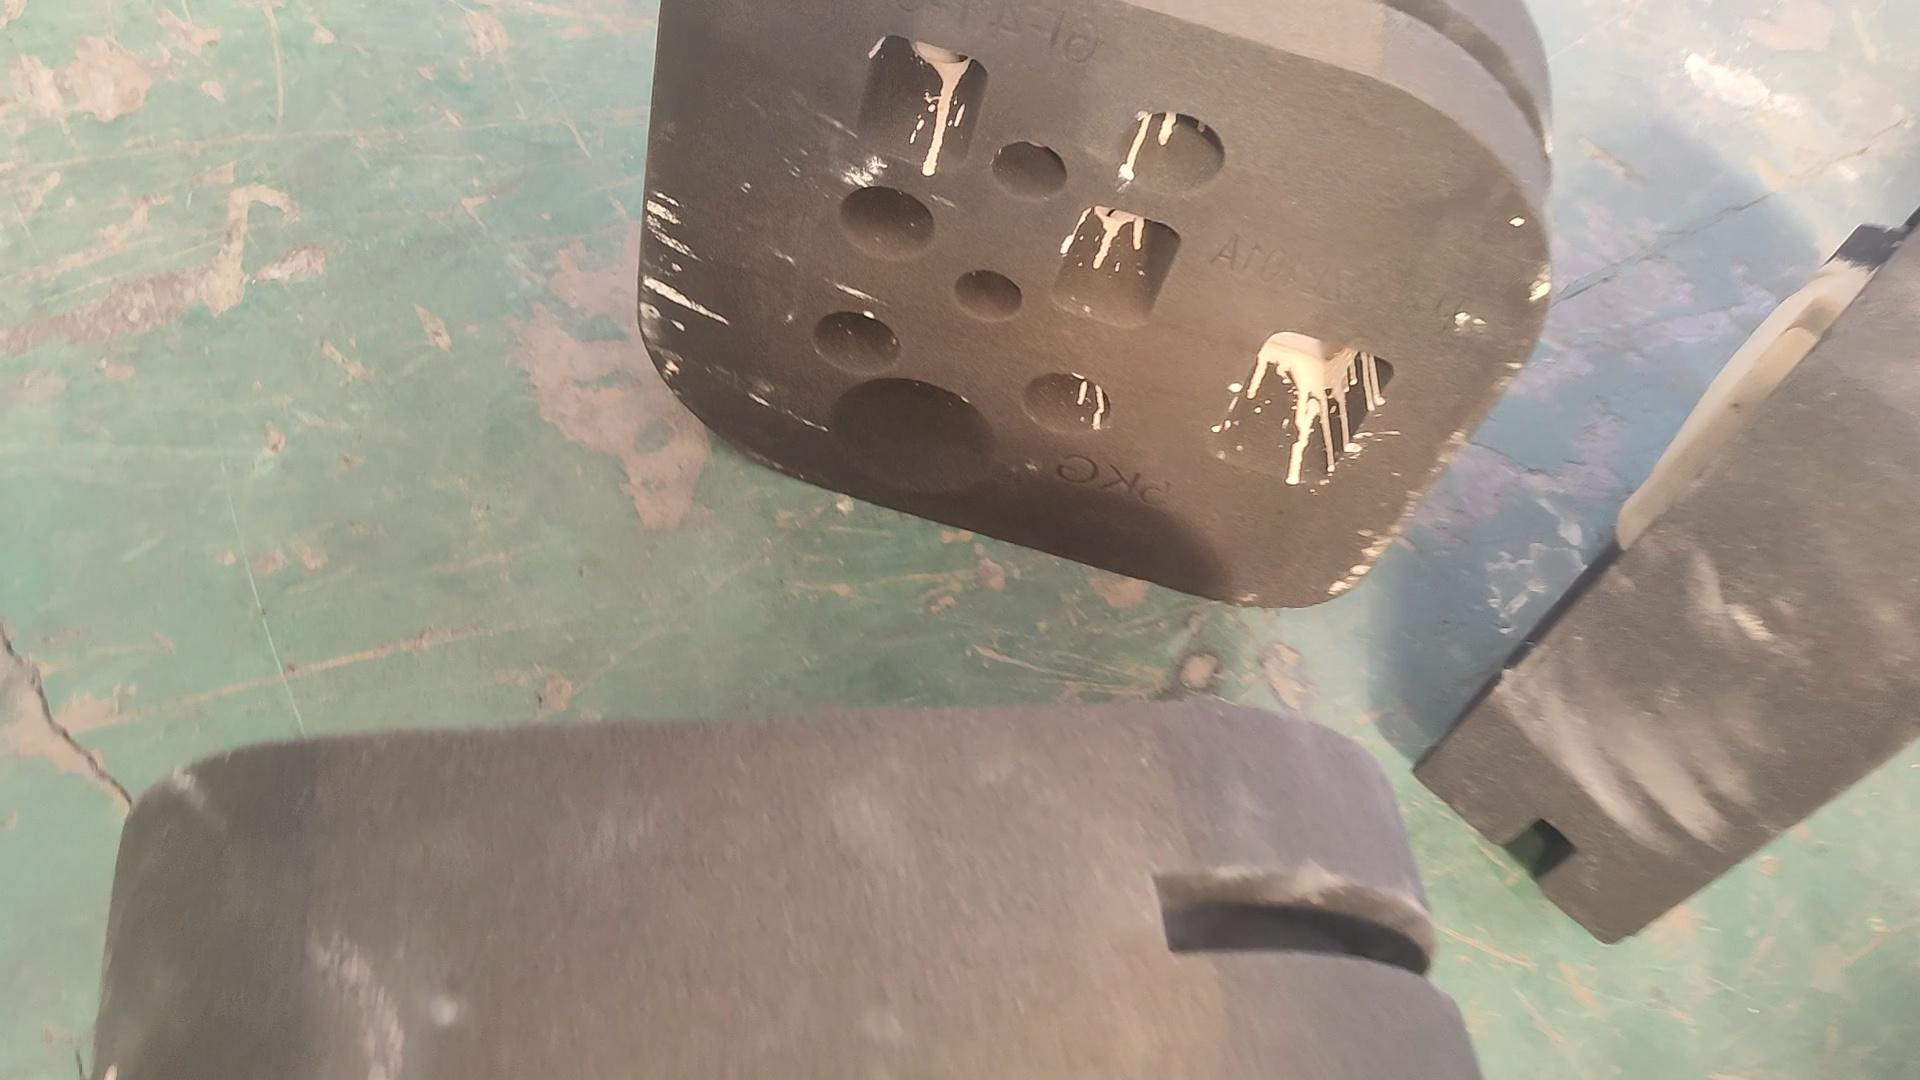pouring hole: (829, 378, 994, 498)
